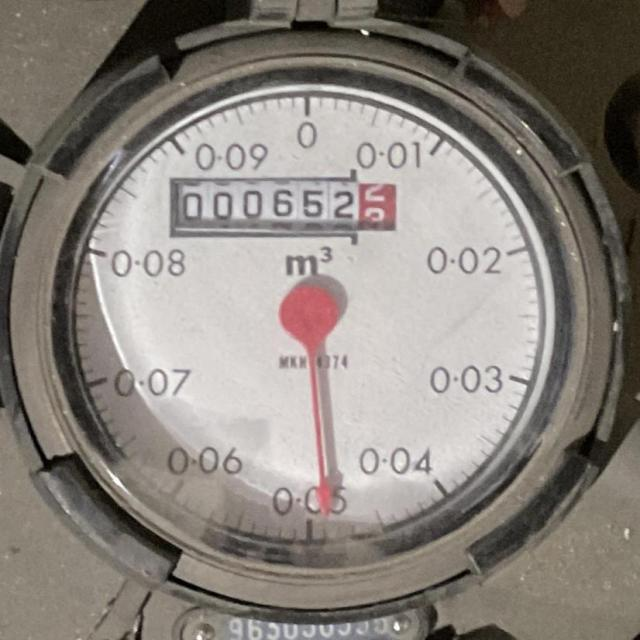gaz_meter: (70, 77, 557, 550)
indication: (168, 174, 398, 232)
